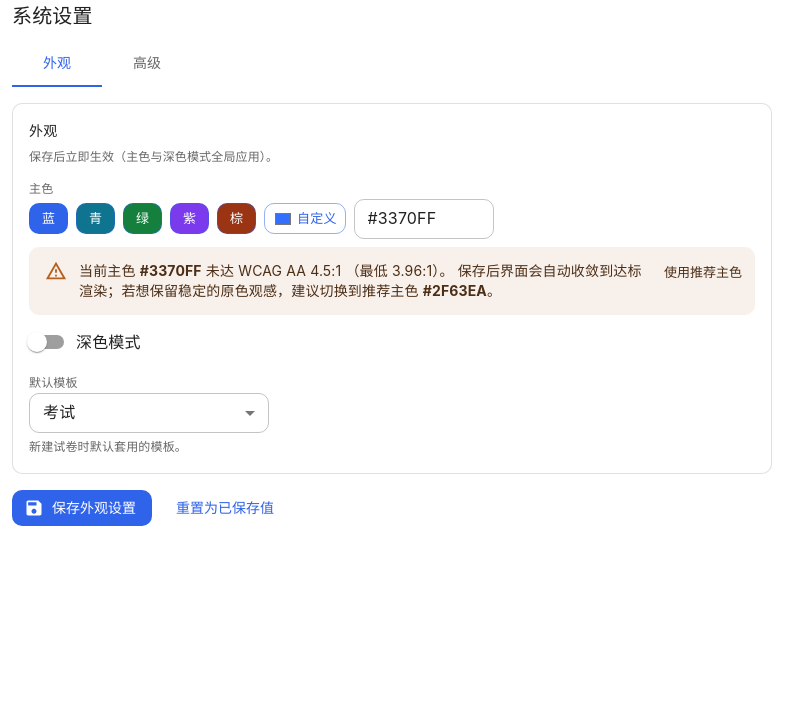
Test: SettingsPage 页面级集成 › 切到「高级」Tab 后回填数据库路径与导出目录
Step 1. Click the tab "高级" → (147, 63), box [102, 39, 192, 87]
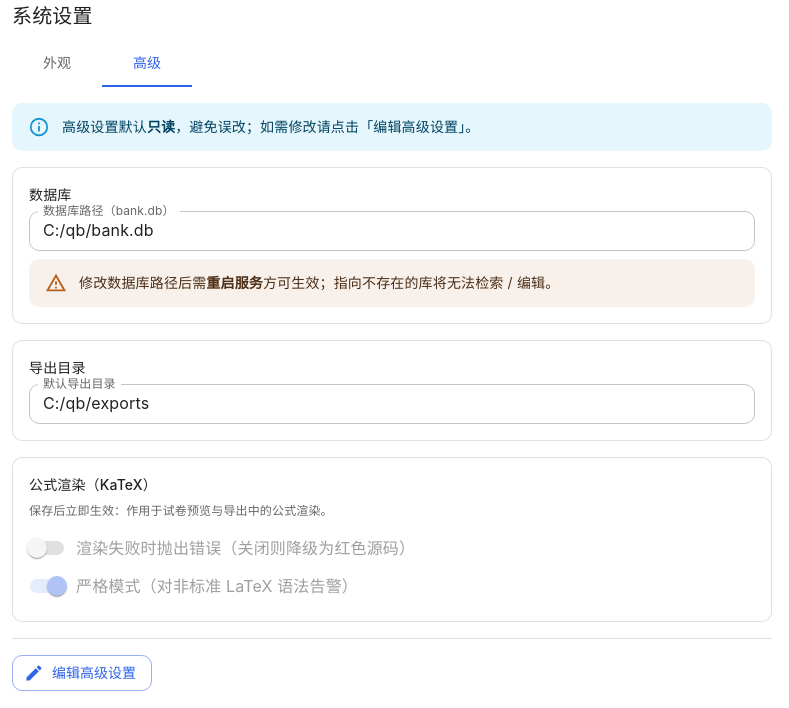
Expected: the field showing "C:/qb/bank.db" is shown, [29, 211, 755, 251]
Expected: the field showing "C:/qb/exports" is shown, [29, 384, 755, 424]
